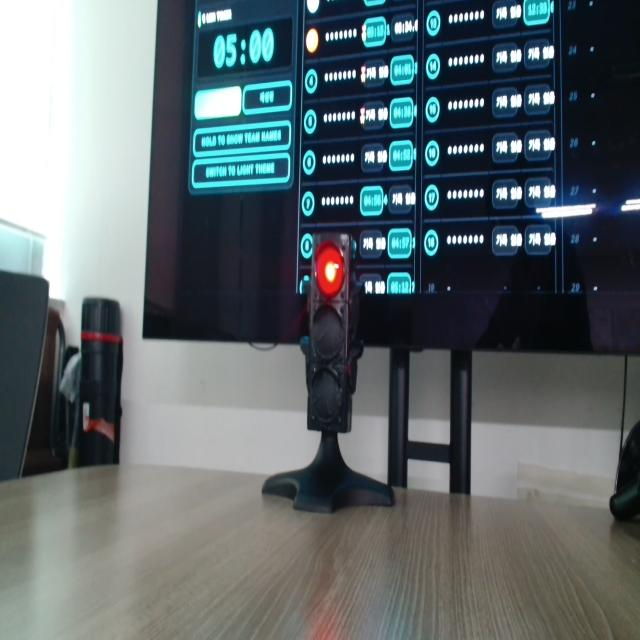red_light: (316, 242, 344, 298)
